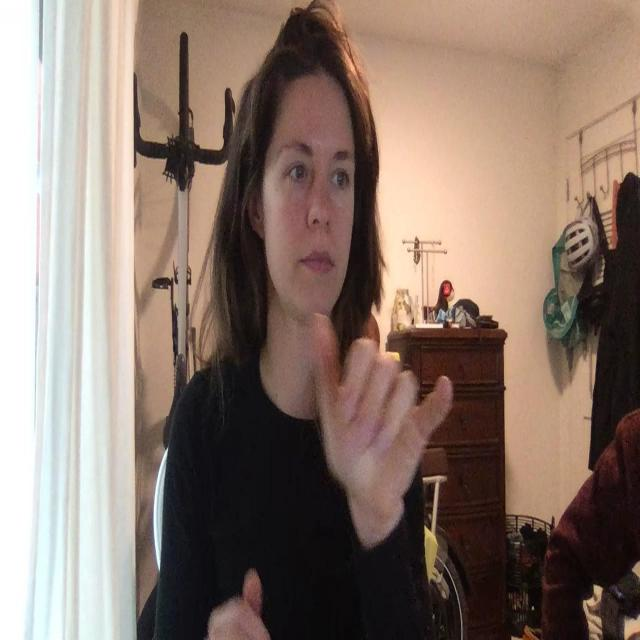face: (264, 99, 356, 326)
